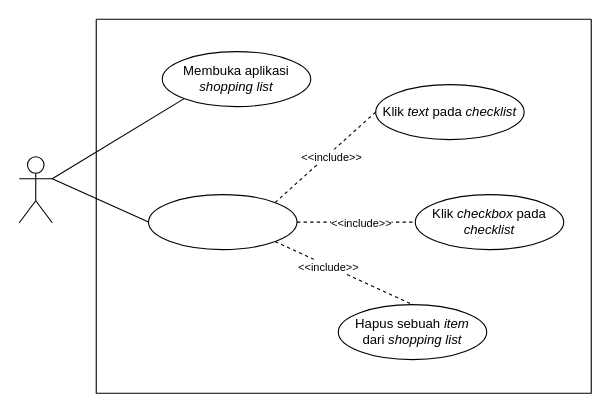
Some shapes in this 611 by 413 pixel diagram are drawn without their labels. Here are the shapes that lost their labels. From the top down, the centre of each, then its label:
point (35, 189): User
point (222, 221): Menambah item baru ke shopping list
